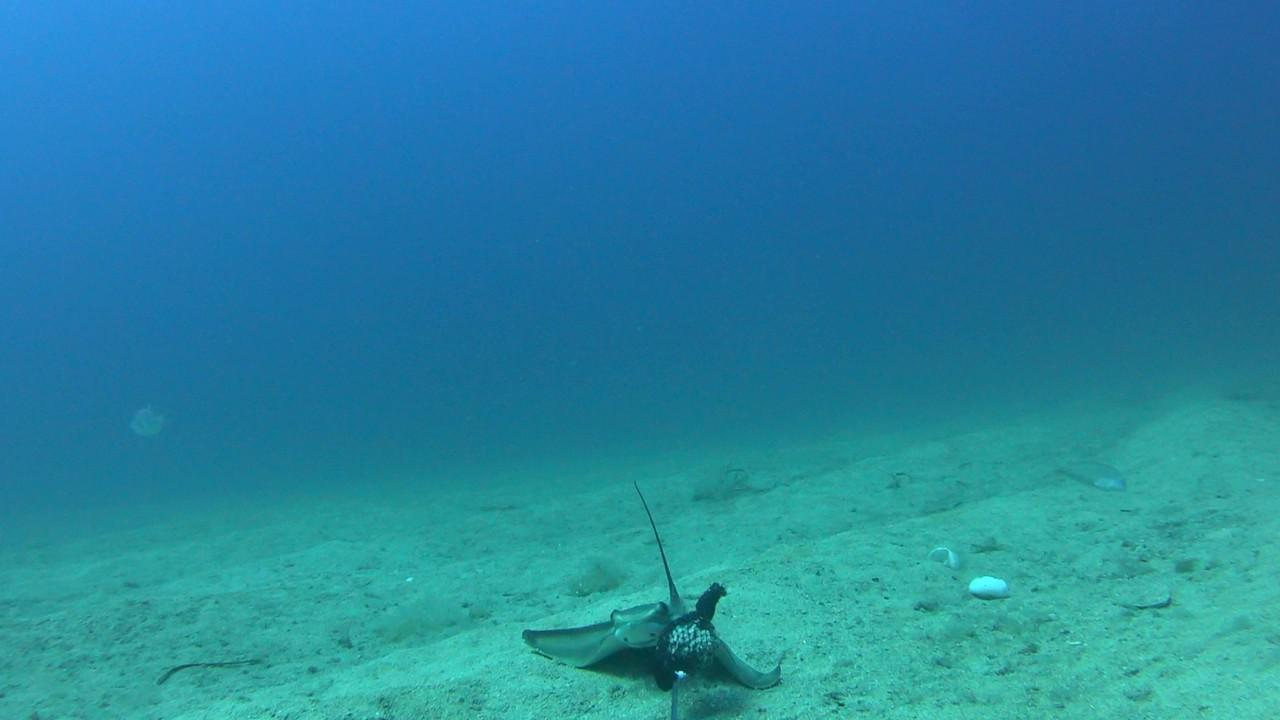balistes: (125, 398, 176, 443)
myliobatis: (525, 481, 819, 692)
raor: (1047, 458, 1130, 498)
